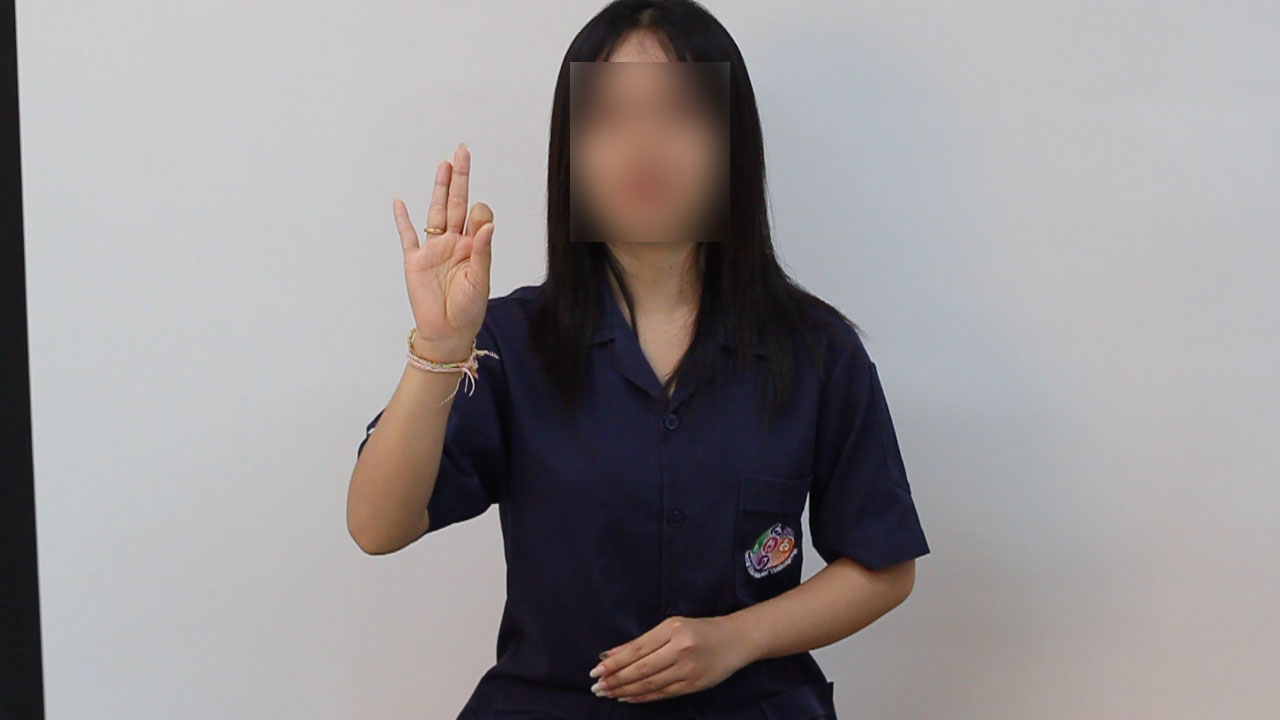for: (389, 134, 499, 355)
